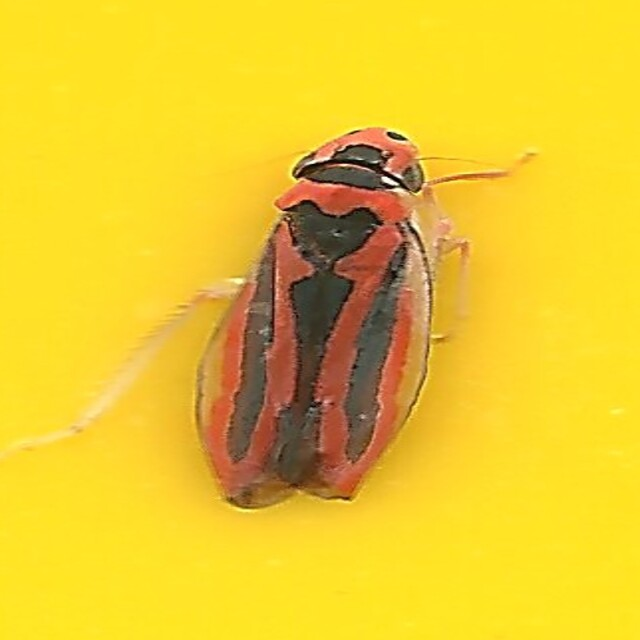Hemiptera: (199, 128, 441, 512)
